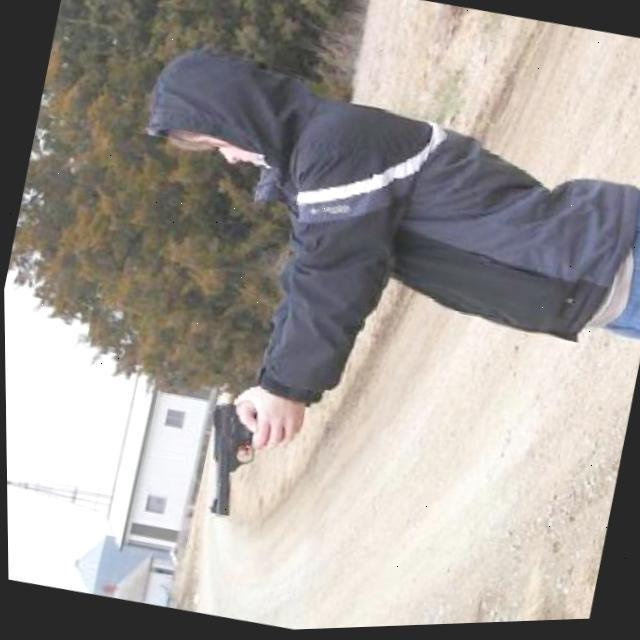gun: (185, 394, 276, 528)
